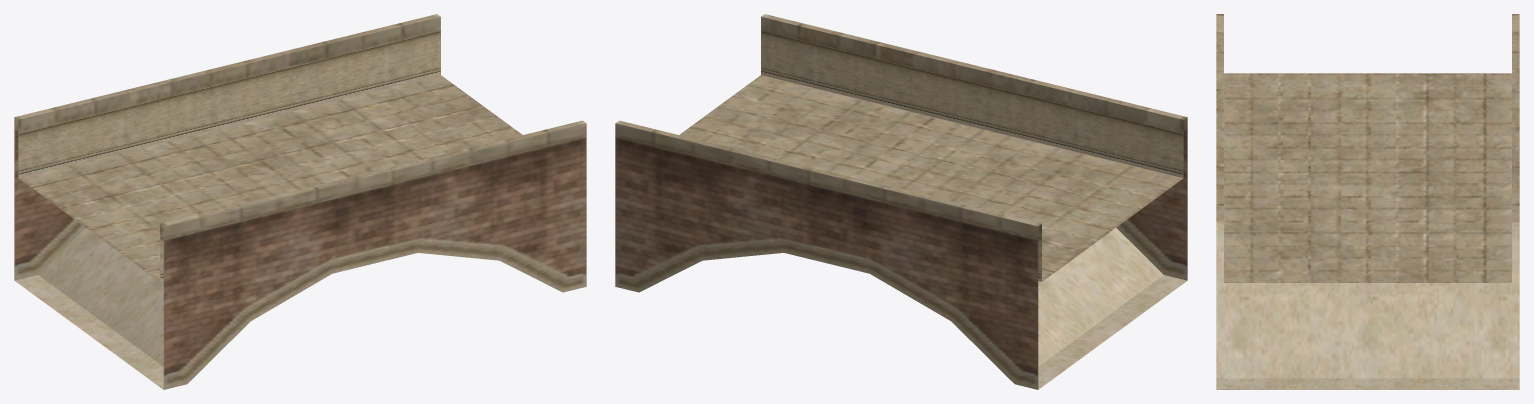
Rendered from thm_nboo_imprv_street_bridge_s01_l2.fbx.
3 views of the same model, side by side, from view 1: azimuth 30°, elevation 25°; view 2: azimuth 150°, elevation 25°; view 3: azimuth 270°, elevation 25° (orthographic).
Visible parts, largest first — view 1: mesh_node; view 2: mesh_node; view 3: mesh_node.
Part boxes in pixels (x1,y1,x2,y2): mesh_node: (14,14,586,389); mesh_node: (615,14,1187,389); mesh_node: (1216,14,1519,389).
Bounding box in the file's own units: 8.5 × 3.14 × 5.2.
